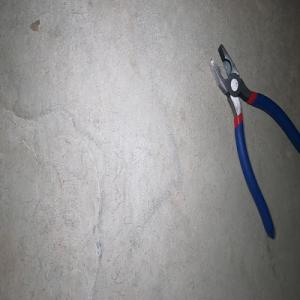Pliers: (208, 43, 300, 239)
